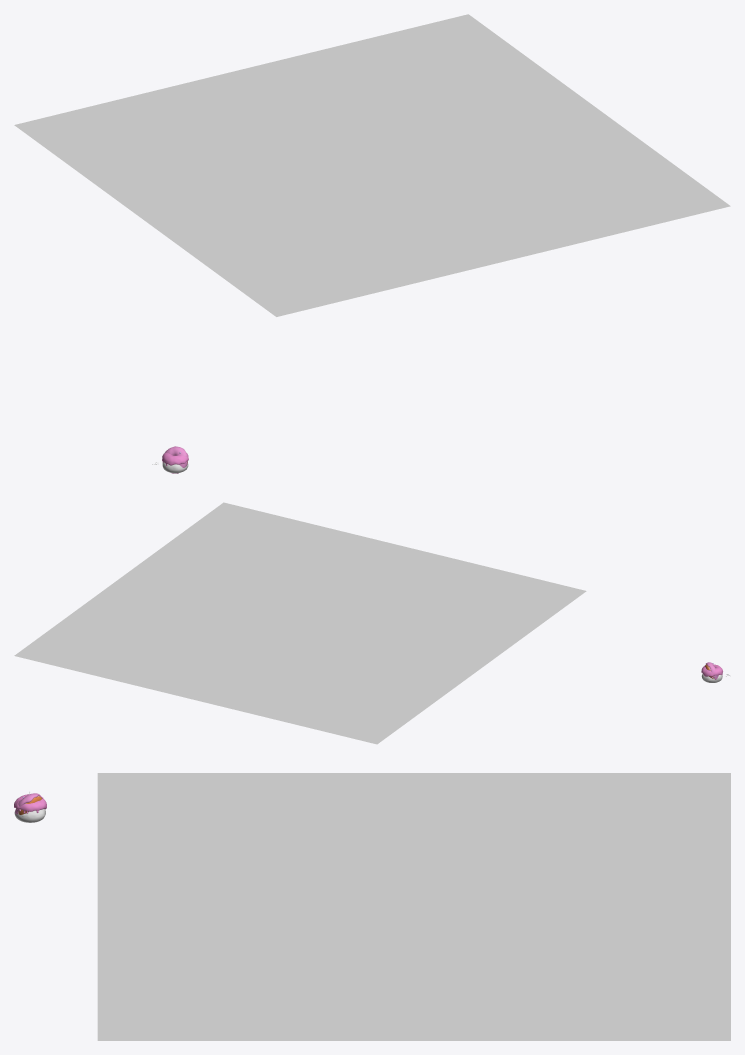
File: donat.glb
The picture shows the model from 3 angles, top to bottom: view 1: azimuth 30°, elevation 25°; view 2: azimuth 150°, elevation 25°; view 3: azimuth 270°, elevation 25°; orthographic projection. The views are drawn at different scales.
Visible parts, largest first — view 1: Plane; view 2: Plane; view 3: Plane.
Part boxes in pixels (box(x1,y1,x2,y2)): Plane: box(14, 14, 730, 316); Plane: box(14, 502, 586, 744); Plane: box(97, 773, 730, 1040).
Size of the model in its own units: 2.67 by 0.4311 by 2.26.
Materials: 5 (1 with a texture image).
